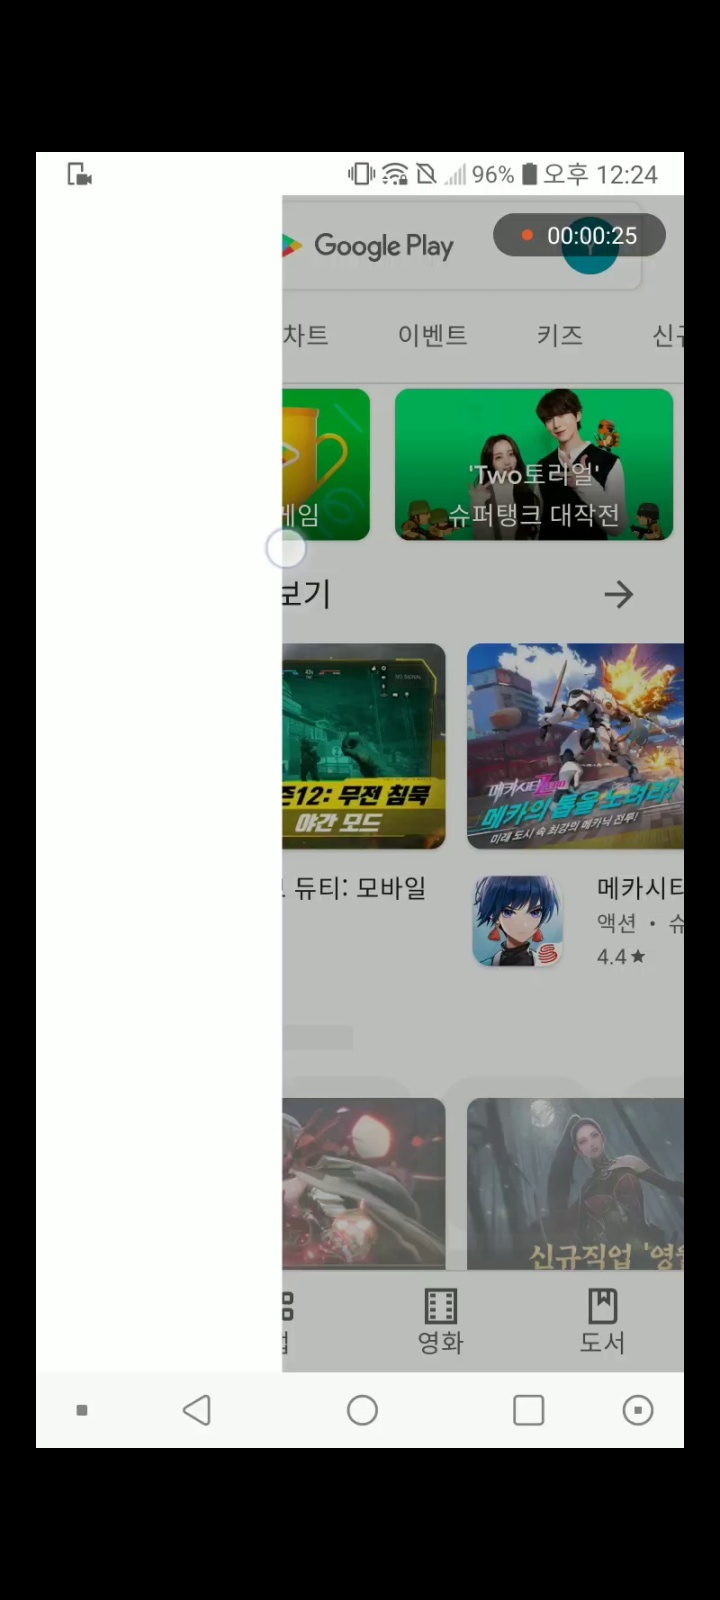Cursor: (264, 527, 309, 572)
